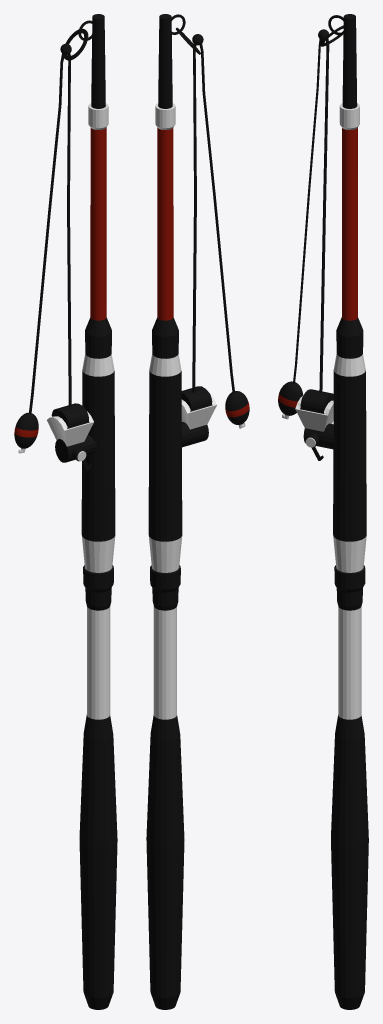
Rendered from fishingRod11.fbx.
The picture shows the model from 3 angles, left to right: view 1: azimuth 30°, elevation 25°; view 2: azimuth 210°, elevation 25°; view 3: azimuth 330°, elevation 25°; orthographic projection.
Visible parts, largest first — view 1: Cylinder.003, Cylinder.001, Cylinder.002; view 2: Cylinder.003, Cylinder.001, Cylinder.002; view 3: Cylinder.003, Cylinder.001, Cylinder.002.
Boxes of the visible parts, x1,y1,x2,y2 form: Cylinder.003: (47,14,117,1009); Cylinder.001: (14,53,64,453); Cylinder.002: (67,53,71,406); Cylinder.003: (146,14,216,1009); Cylinder.001: (199,43,249,428); Cylinder.002: (192,44,196,392); Cylinder.003: (295,14,368,1009); Cylinder.001: (278,39,321,419); Cylinder.002: (319,38,329,393).
Size of the model in its own units: 11.84 by 120 by 5.44.
